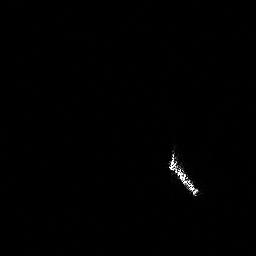ship: (165, 147, 204, 199)
